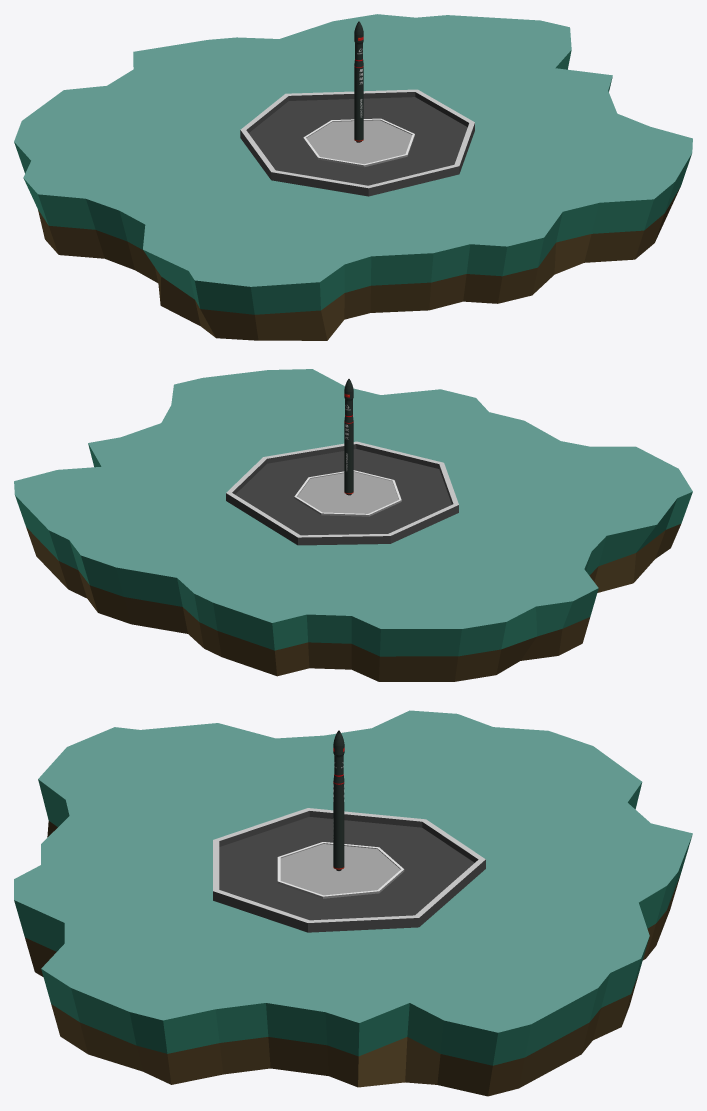
Rendered from ceres1.gltf.
The picture shows the model from 3 angles, top to bottom: view 1: azimuth 30°, elevation 25°; view 2: azimuth 150°, elevation 25°; view 3: azimuth 270°, elevation 25°; orthographic projection. The views are drawn at different scales.
Visible parts, largest first — view 1: Cylinder.001, Cylinder.002; view 2: Cylinder.001, Cylinder.002; view 3: Cylinder.001, Cylinder.002.
Part boxes in pixels (x1,y1,x2,y2): Cylinder.001: (14, 14, 692, 340); Cylinder.002: (354, 21, 363, 142); Cylinder.001: (14, 369, 692, 681); Cylinder.002: (344, 379, 353, 495); Cylinder.001: (14, 710, 692, 1096); Cylinder.002: (333, 730, 344, 870).
Bounding box in the file's own units: 8.06 × 2.54 × 7.18.
Materials: 10 (1 with a texture image).
